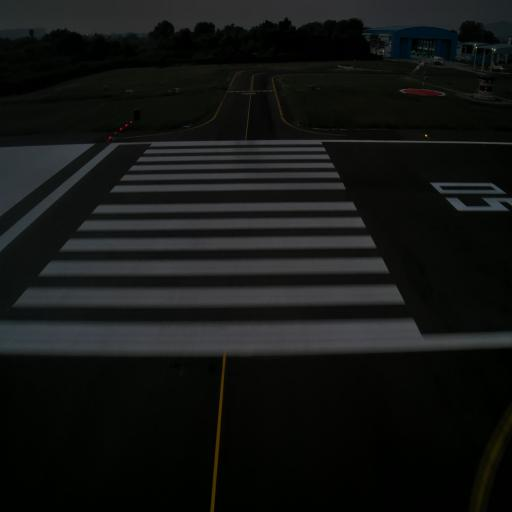on: (424, 131, 428, 140), (108, 134, 112, 142), (119, 126, 123, 132), (125, 122, 128, 129), (114, 130, 117, 136), (130, 120, 132, 124)
